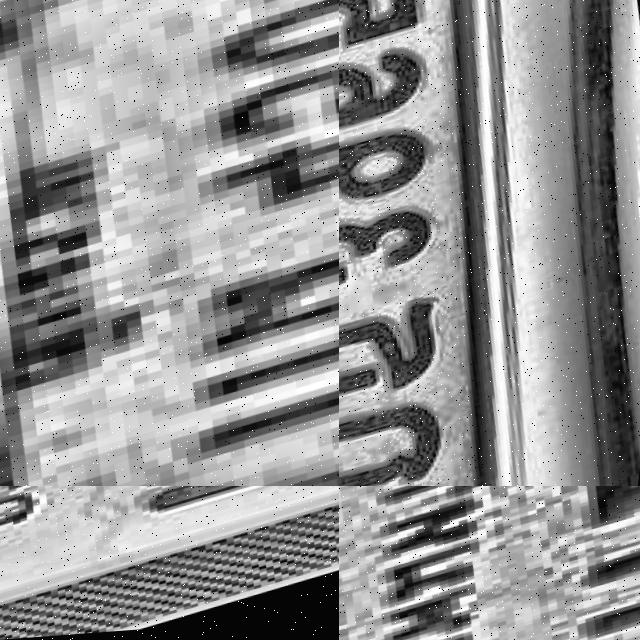license-plate: (0, 0, 339, 486), (339, 0, 640, 486), (0, 486, 339, 640), (339, 486, 640, 640)
